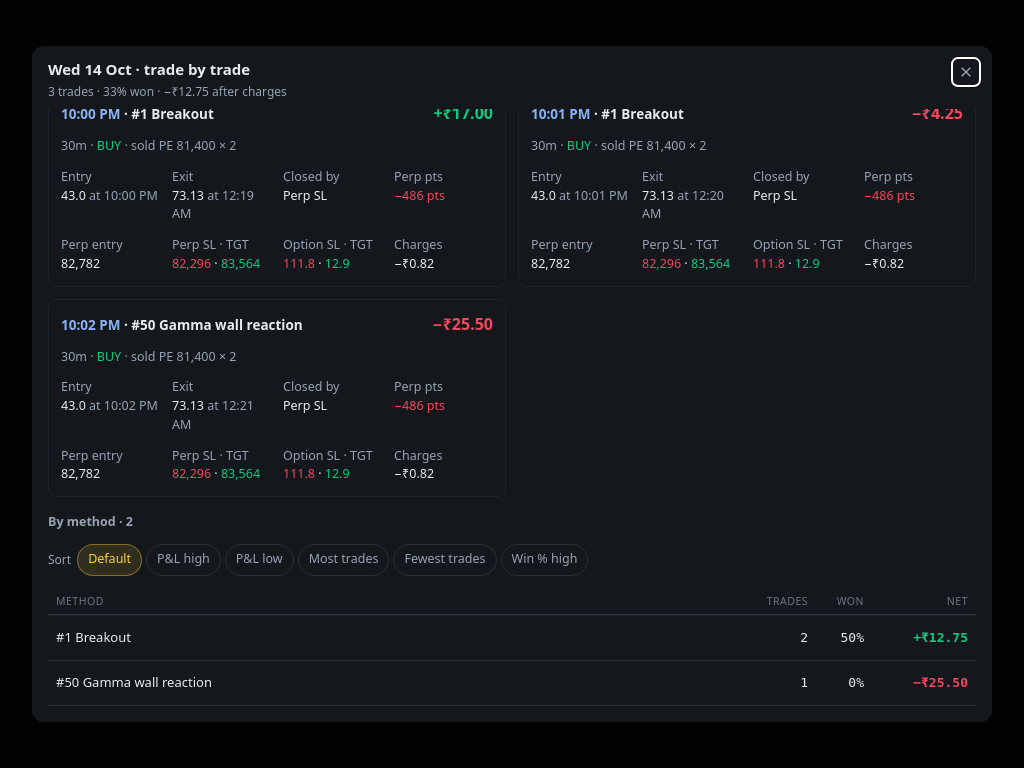
a day of the backtest, trade by trade (14 Oct 2026) › [critical] by method: a pick of several with each one's record, and a table of them, the best first -- a row a tap from its trades (15 Oct 2026)
(page scrolled)
Expected: the list named "Trades" is shown, [48,109,976,497]
Click the button with aria-label "Only #50 Gamma wall reaction": (134, 682) [56,667,736,699]
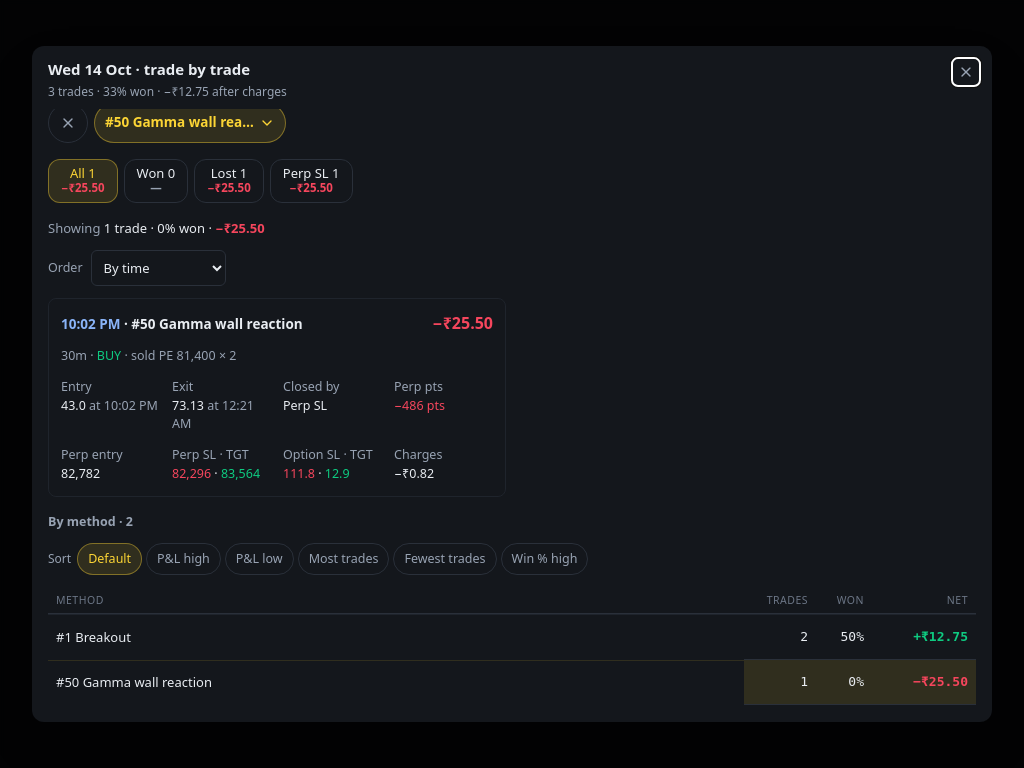
Result: the number of list items is 1 at [48,298,506,497]
Result: the button with aria-label "Method filter: #50 Gamma wall reaction" is shown at [94,109,286,143]
Result: the button with aria-label "All 1:" is shown at [48,159,118,203]
Click the button with aria-label "Method filter: #50 Gamma wall reaction": (190, 123) [94,103,286,143]
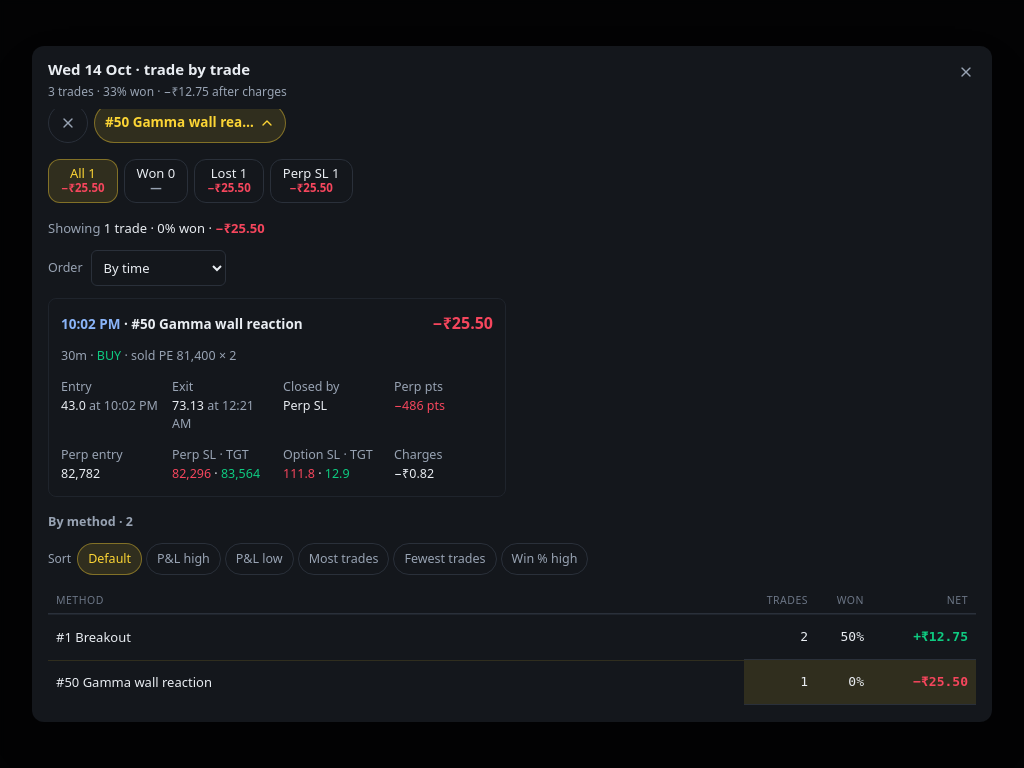
Click the button named "Clear all": (68, 123) [48,103,88,143]
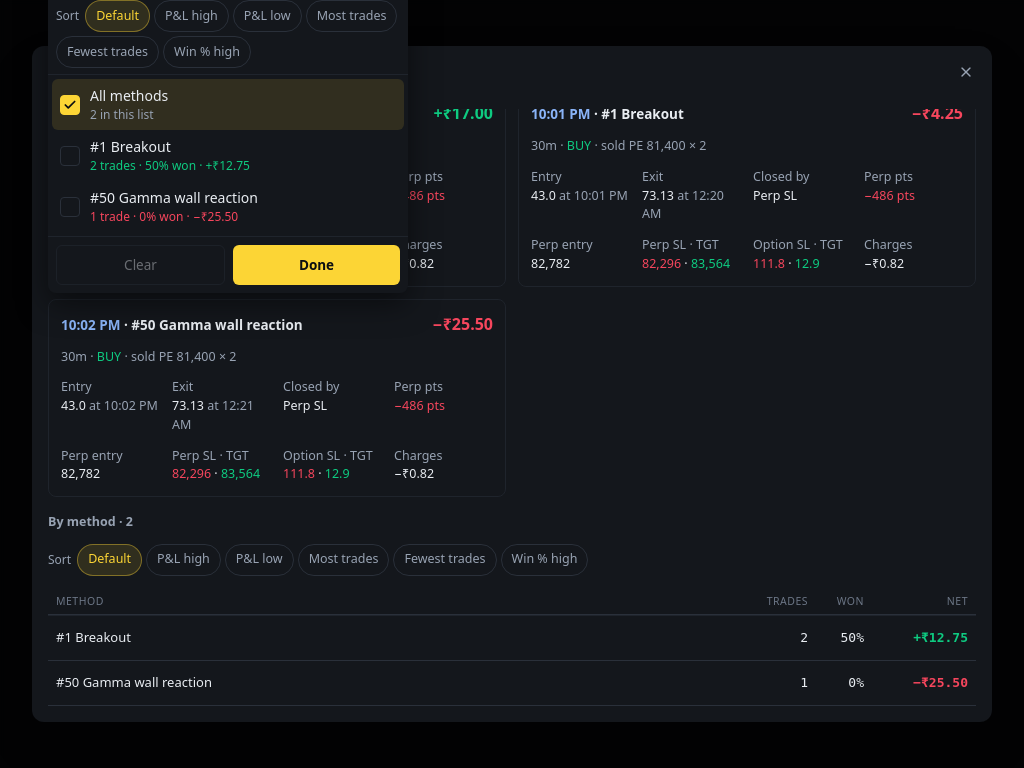
Result: the number of list items is 3 at [48,109,506,287]; [518,109,976,287]; [48,299,506,497]
